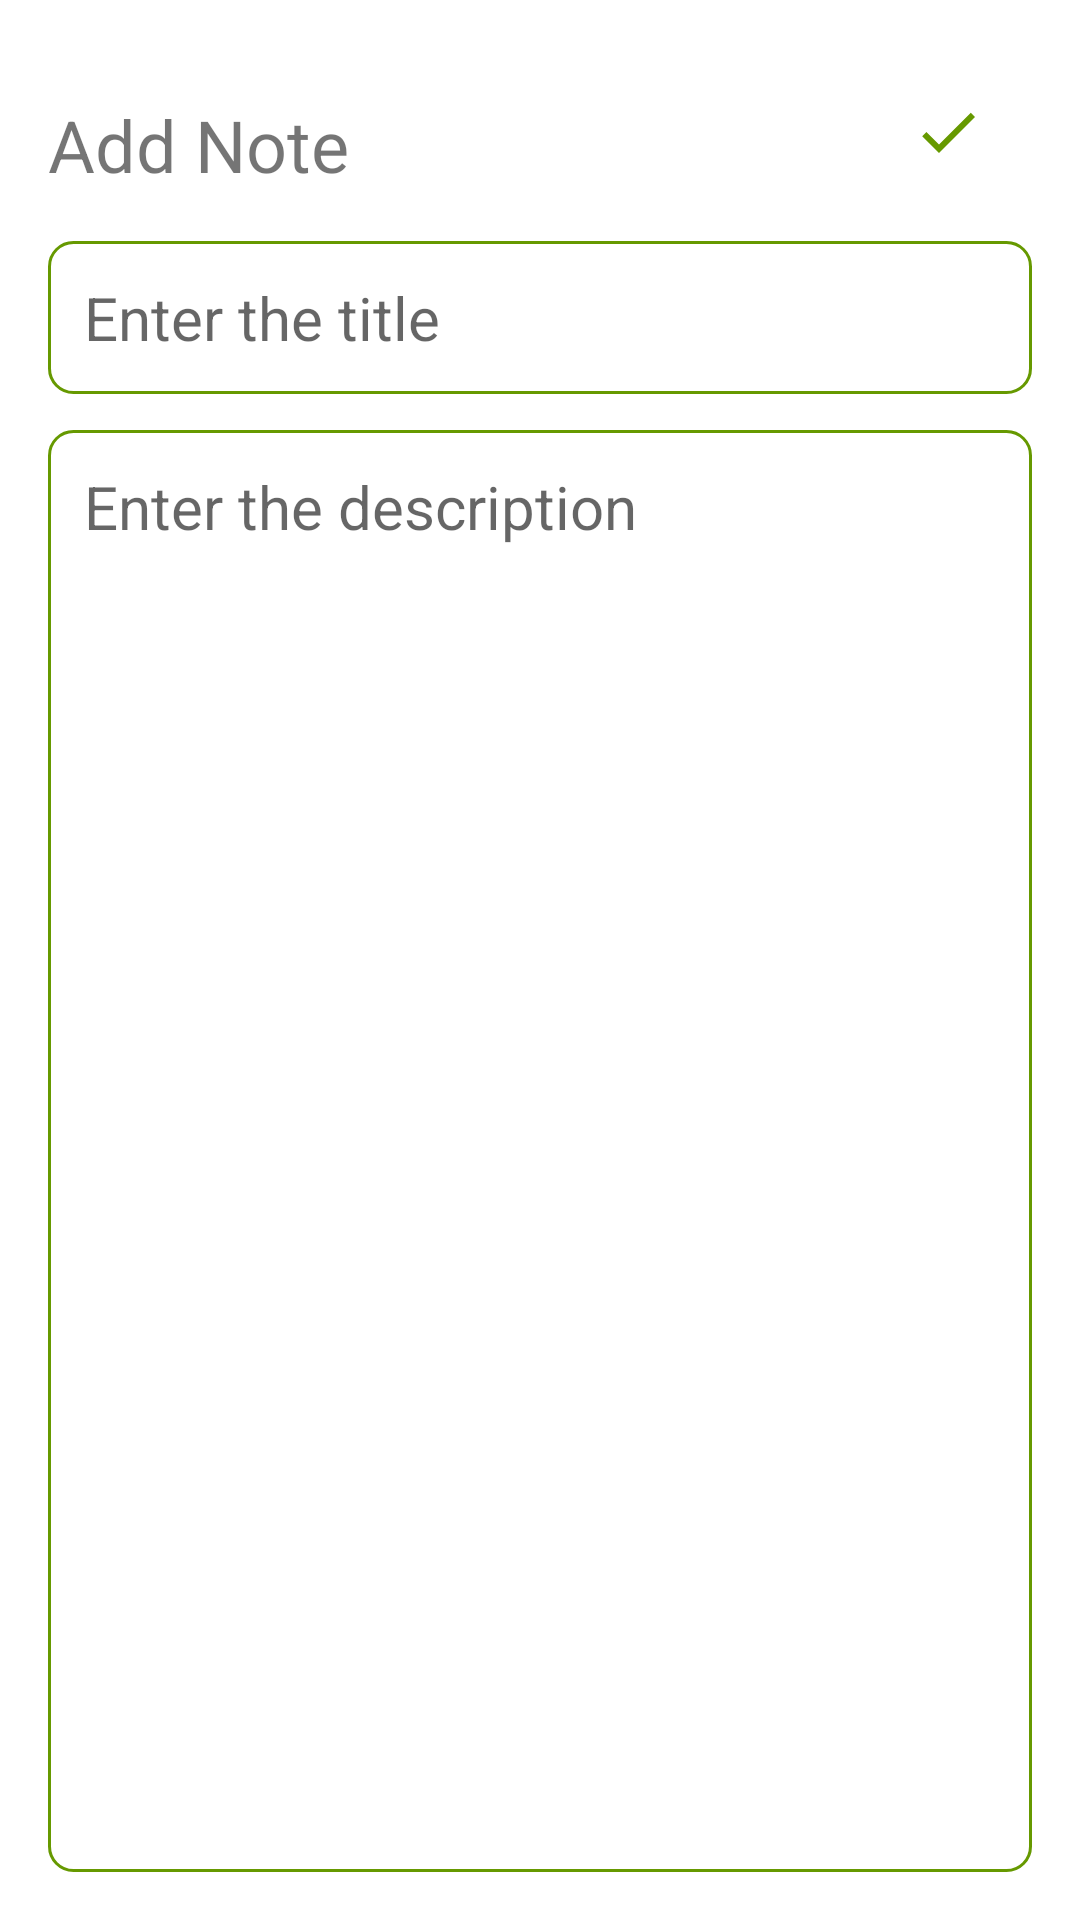

Point at icon controls on the screen. Image size 1080*1920, points as (x=x, y=y).
done: (x=948, y=133)
